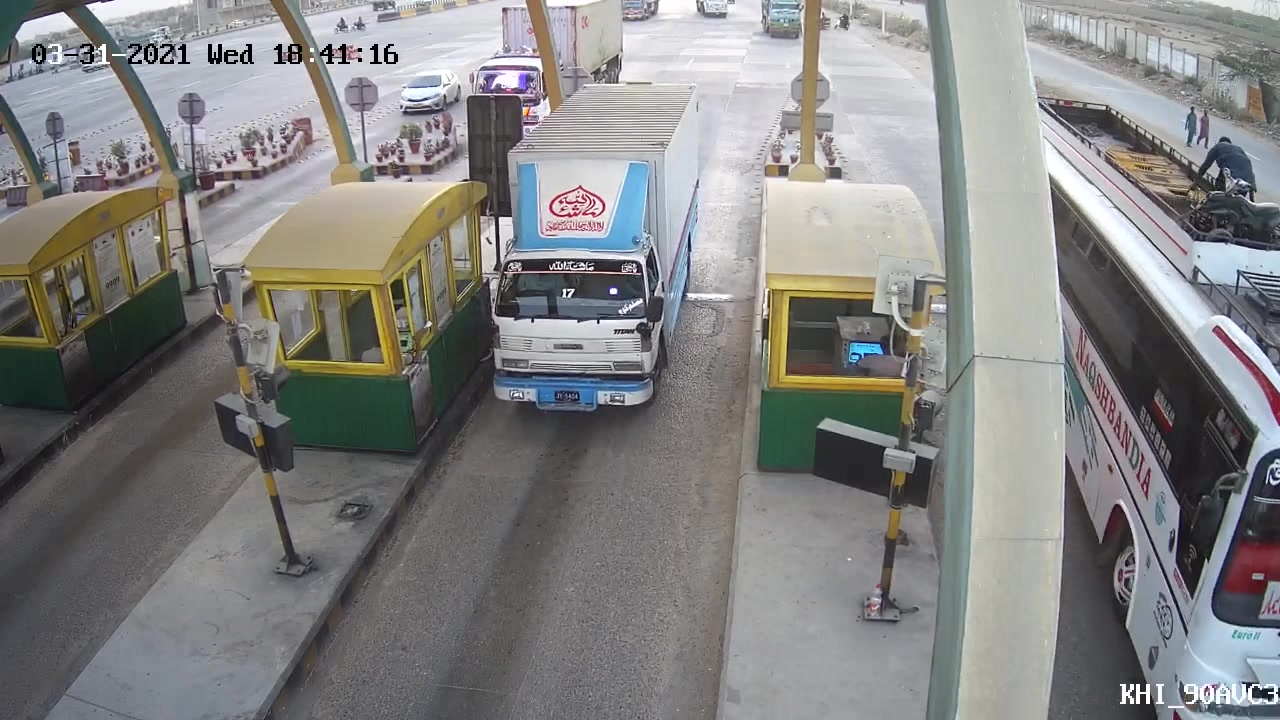F5: (478, 73, 718, 425)
